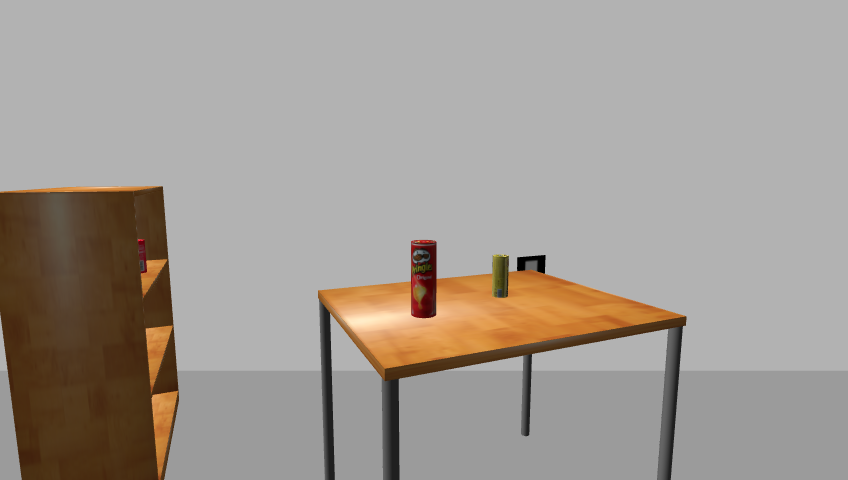aruco marker: (513, 254, 549, 277)
biscuits pack: (492, 254, 509, 300)
bookshelf: (0, 186, 186, 479)
coke can: (135, 239, 148, 274)
dinner table: (311, 268, 695, 479)
pringles can: (408, 240, 439, 320)
